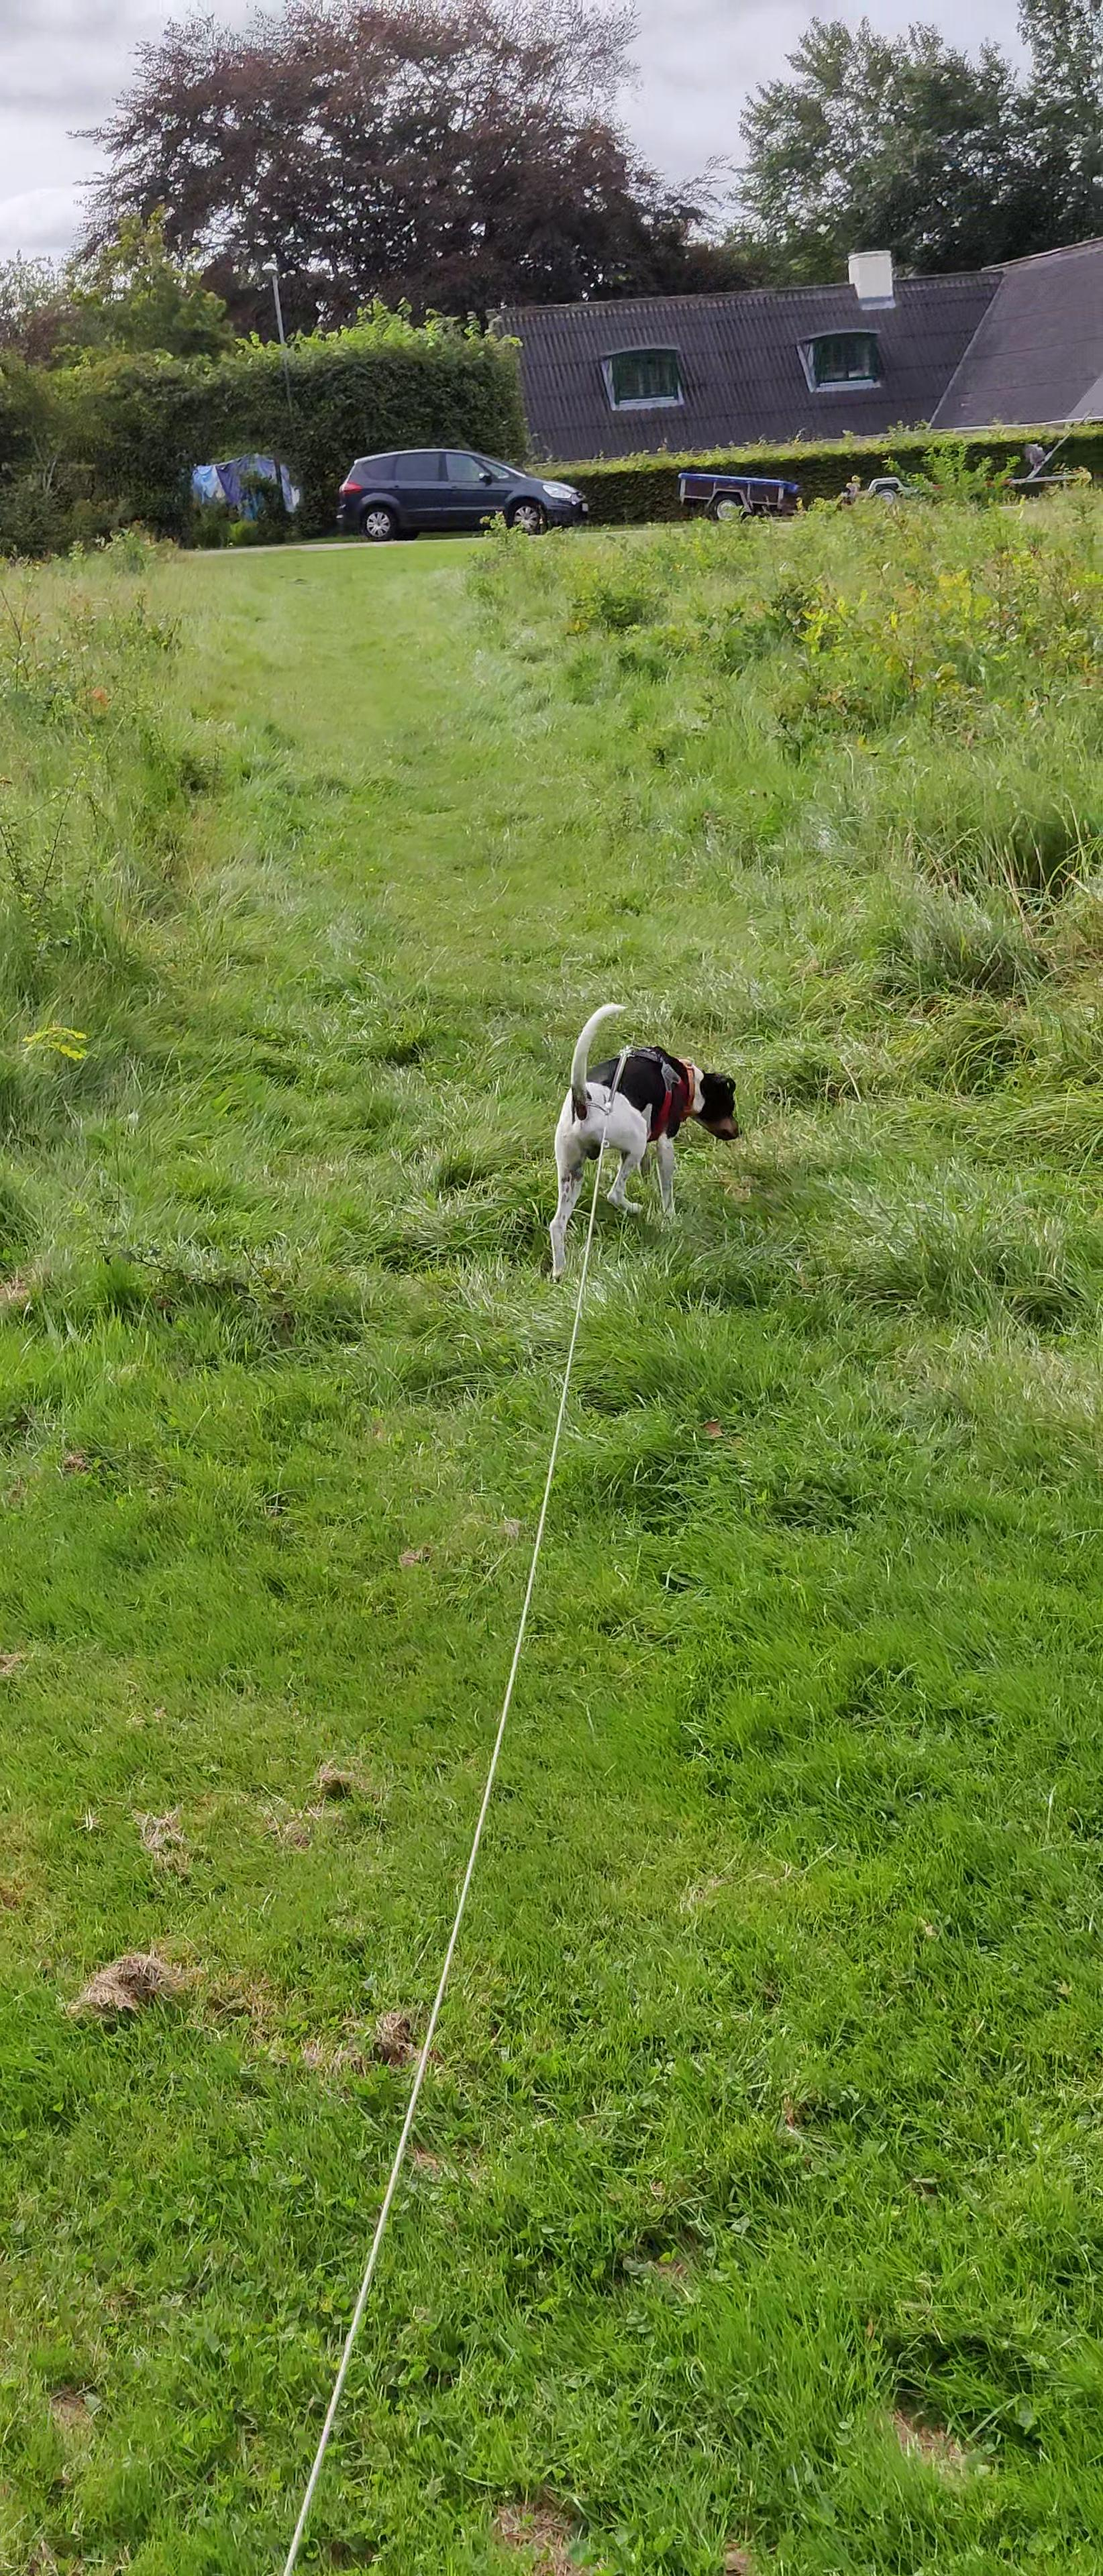Dog: (521, 984, 759, 1293)
